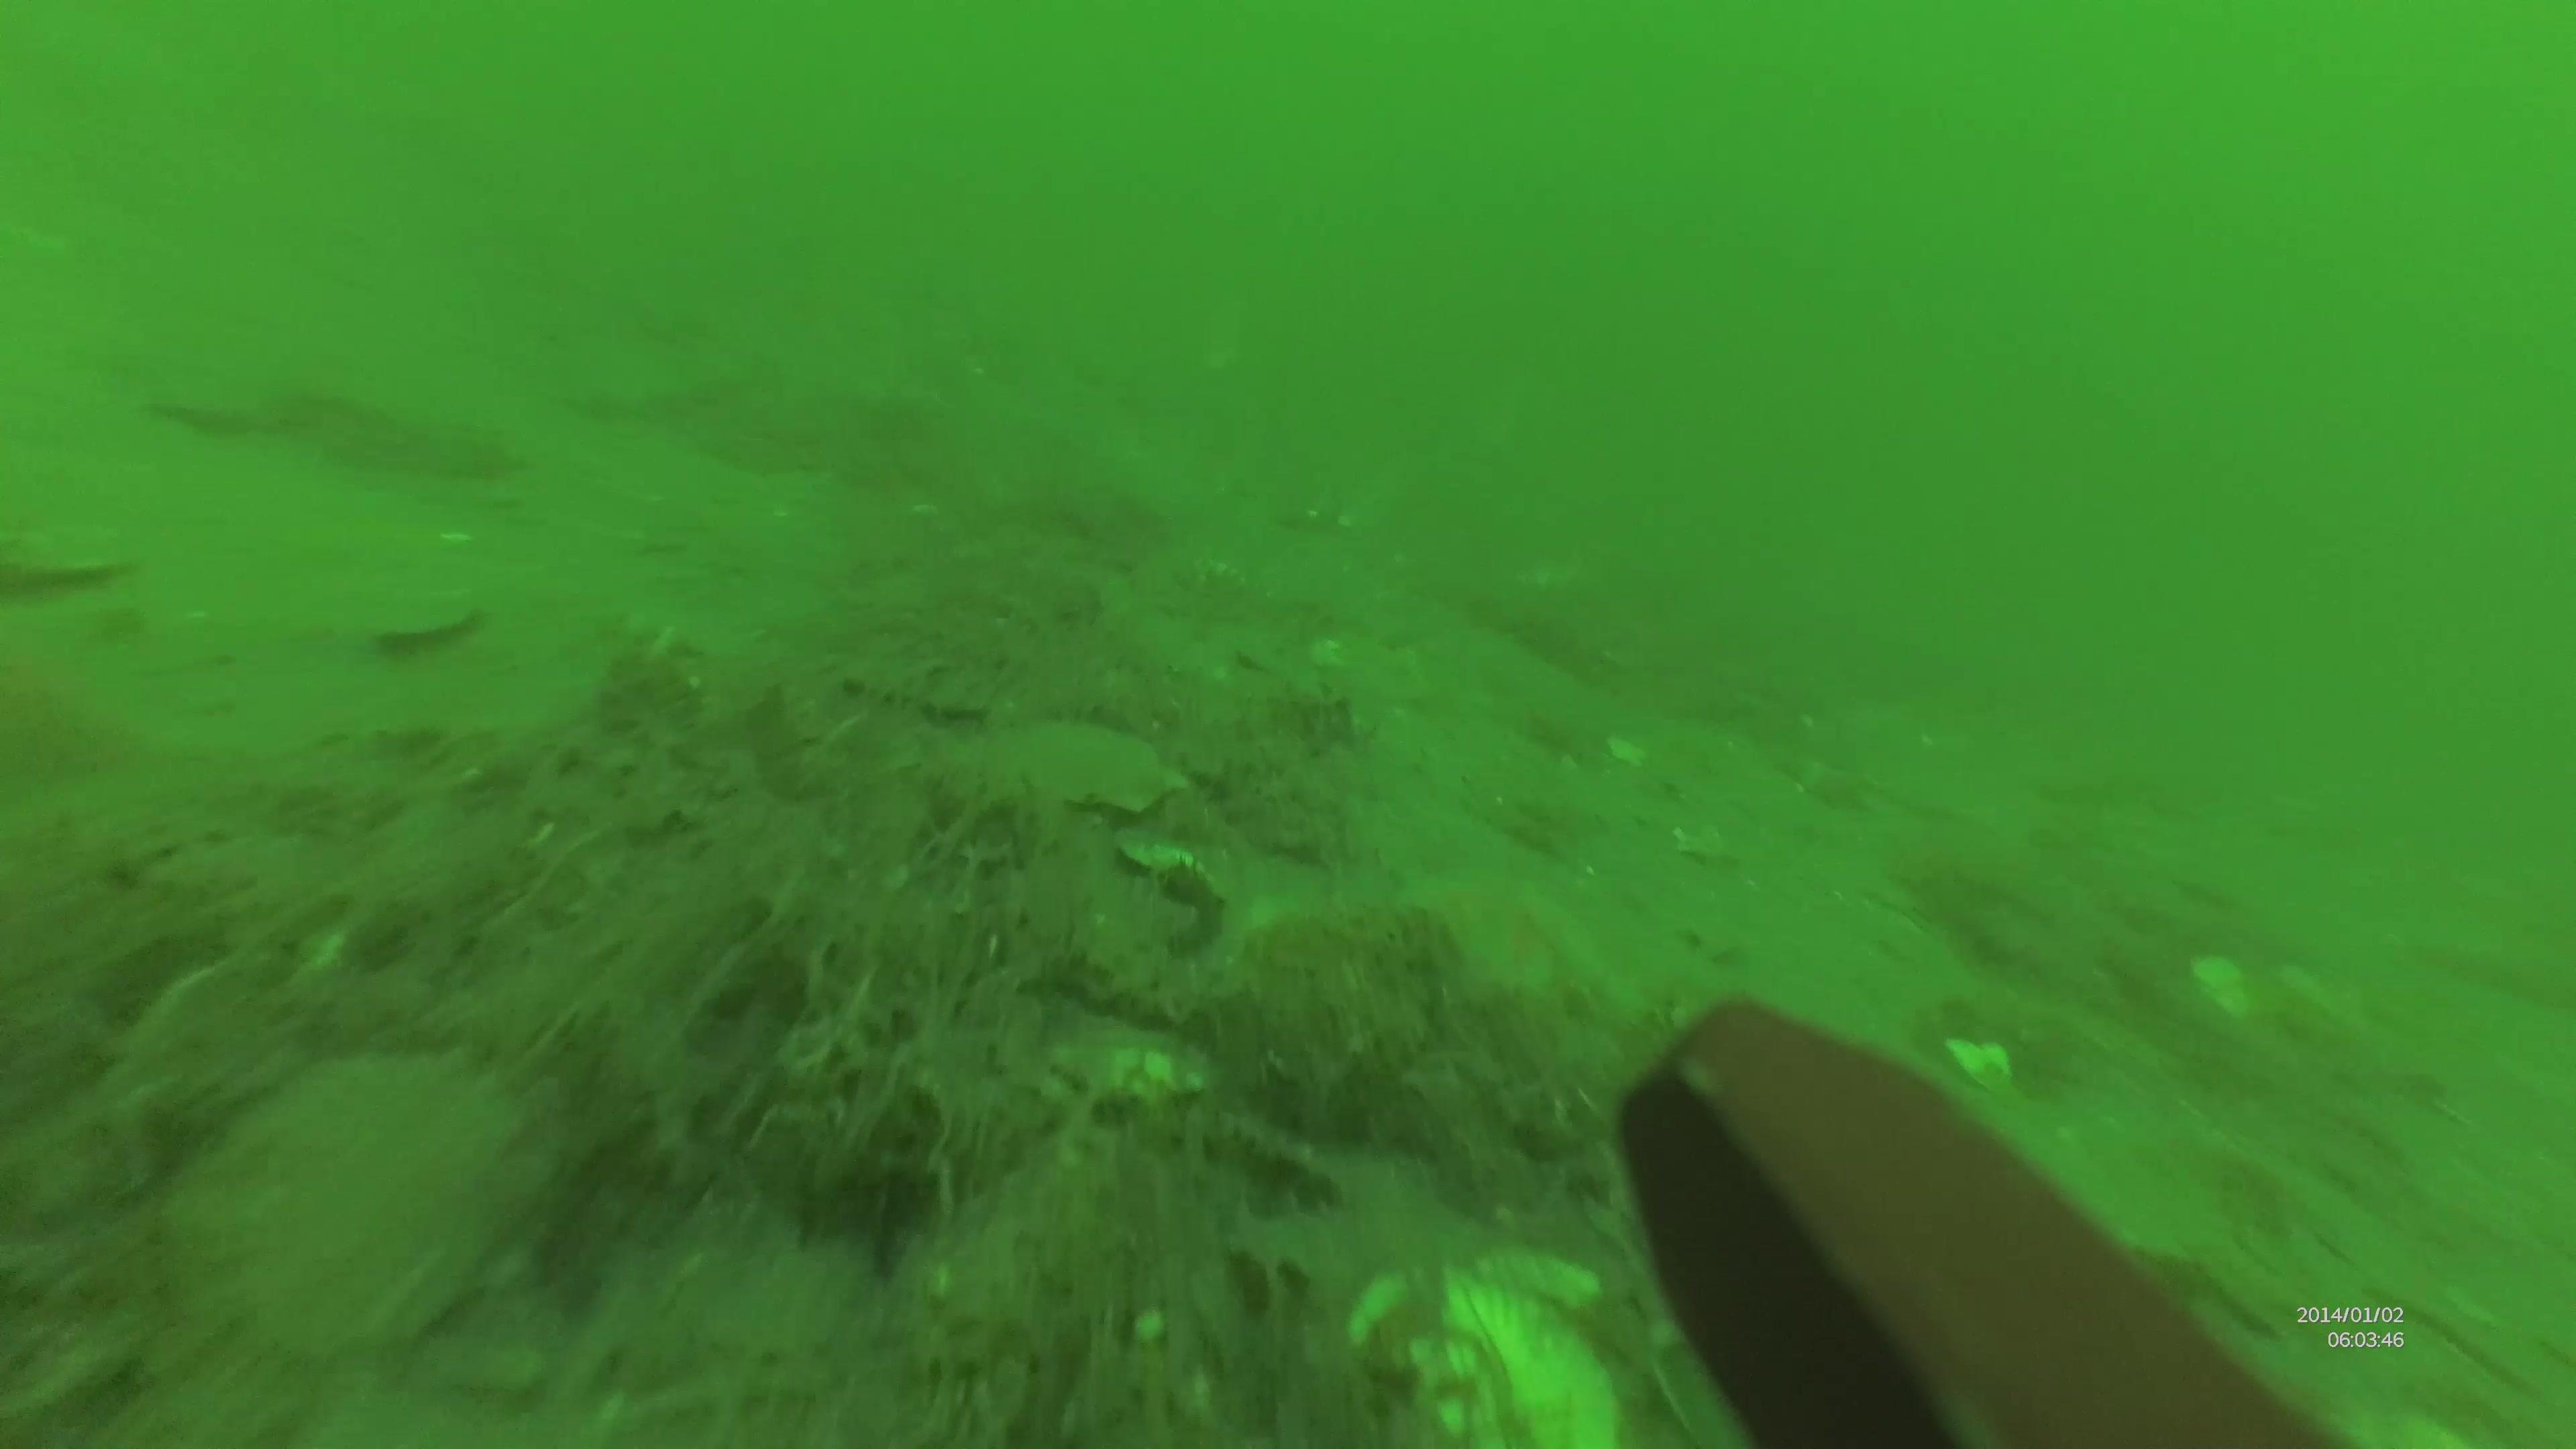scallop: (1346, 1265, 1622, 1449)
